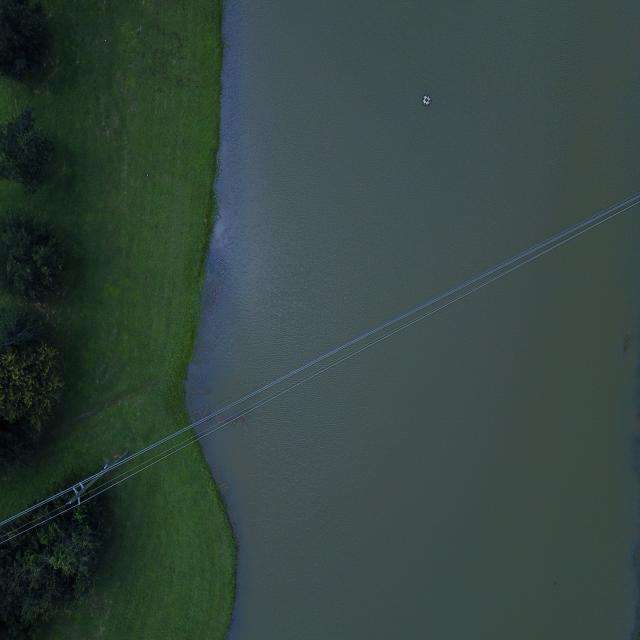fire: (203, 204, 640, 639), (186, 1, 640, 417)
